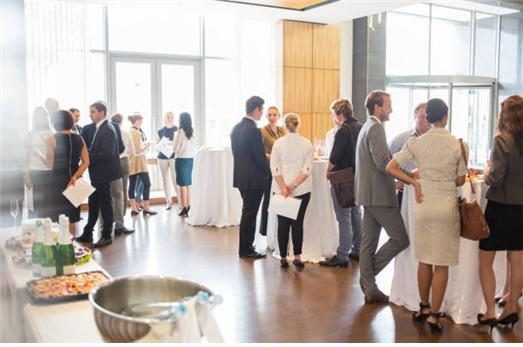alcohol: (57, 219, 78, 277), (39, 221, 59, 268), (32, 221, 44, 279)
